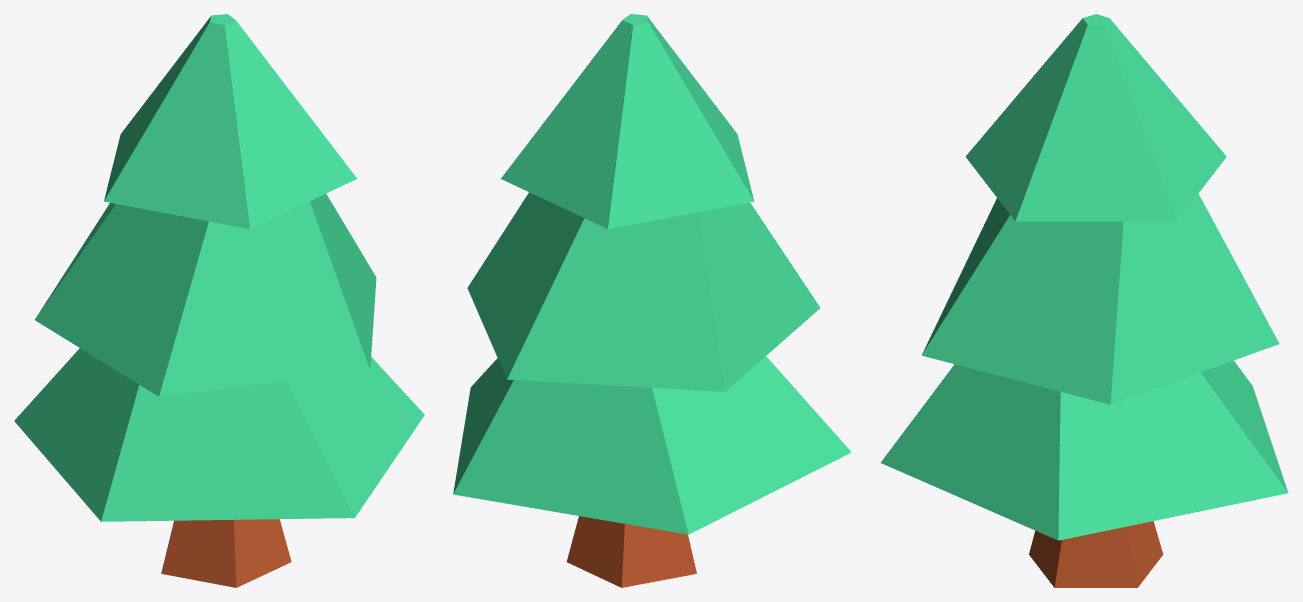
File: greenTree.fbx
3 views of the same model, side by side, from view 1: azimuth 30°, elevation 25°; view 2: azimuth 150°, elevation 25°; view 3: azimuth 270°, elevation 25° (orthographic).
Visible parts, largest first — view 1: Cylinder.118, Cylinder.000; view 2: Cylinder.118, Cylinder.000; view 3: Cylinder.118, Cylinder.000.
Boxes of the visible parts, x1,y1,x2,y2 form: Cylinder.118: [14, 14, 424, 521]; Cylinder.000: [161, 519, 291, 587]; Cylinder.118: [453, 14, 851, 534]; Cylinder.000: [566, 516, 696, 587]; Cylinder.118: [880, 14, 1288, 540]; Cylinder.000: [1029, 521, 1163, 587].
Bounding box in the file's own units: 493 × 721 × 490.
